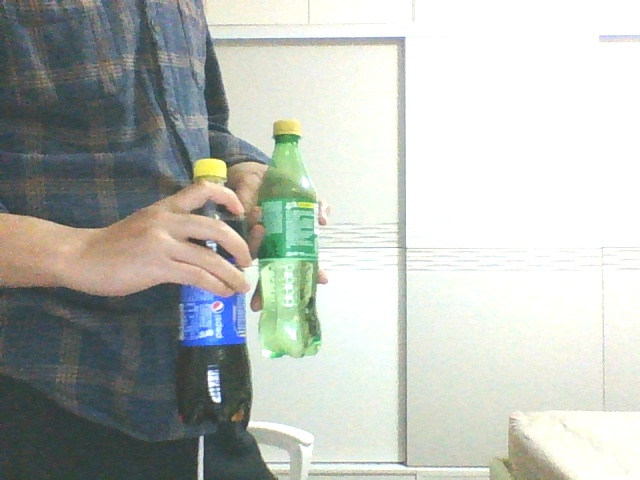Cola: (177, 158, 252, 427)
Sprite: (256, 117, 322, 358)
